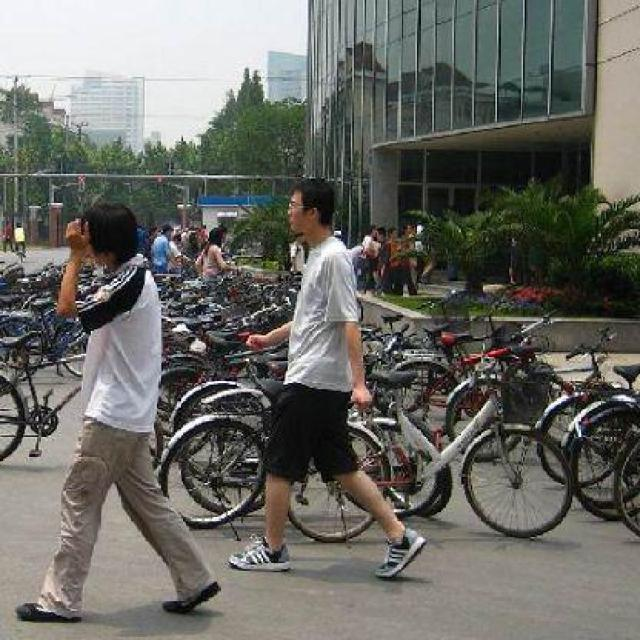Person: (16, 196, 224, 624), (229, 177, 429, 581)
